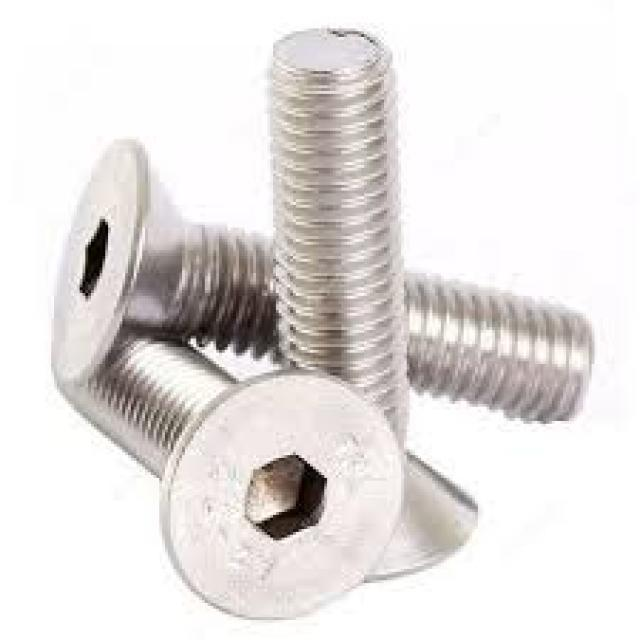allen: (162, 368, 408, 620), (48, 134, 150, 388)
